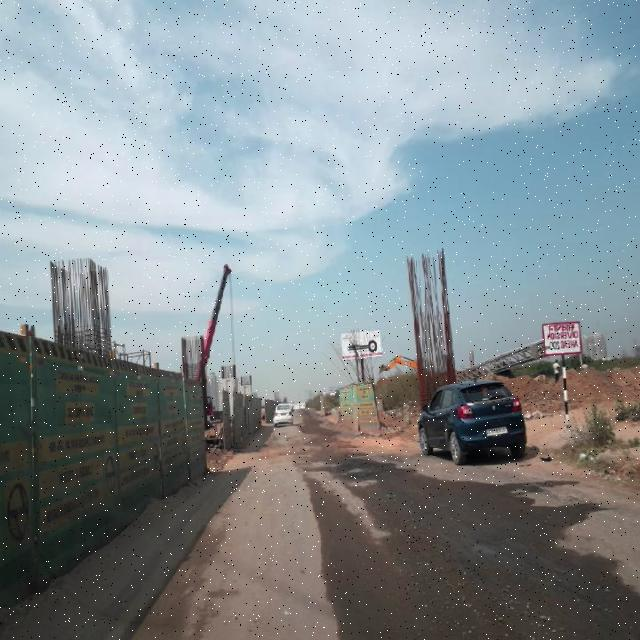D40: (450, 521, 573, 587), (316, 444, 406, 494)
